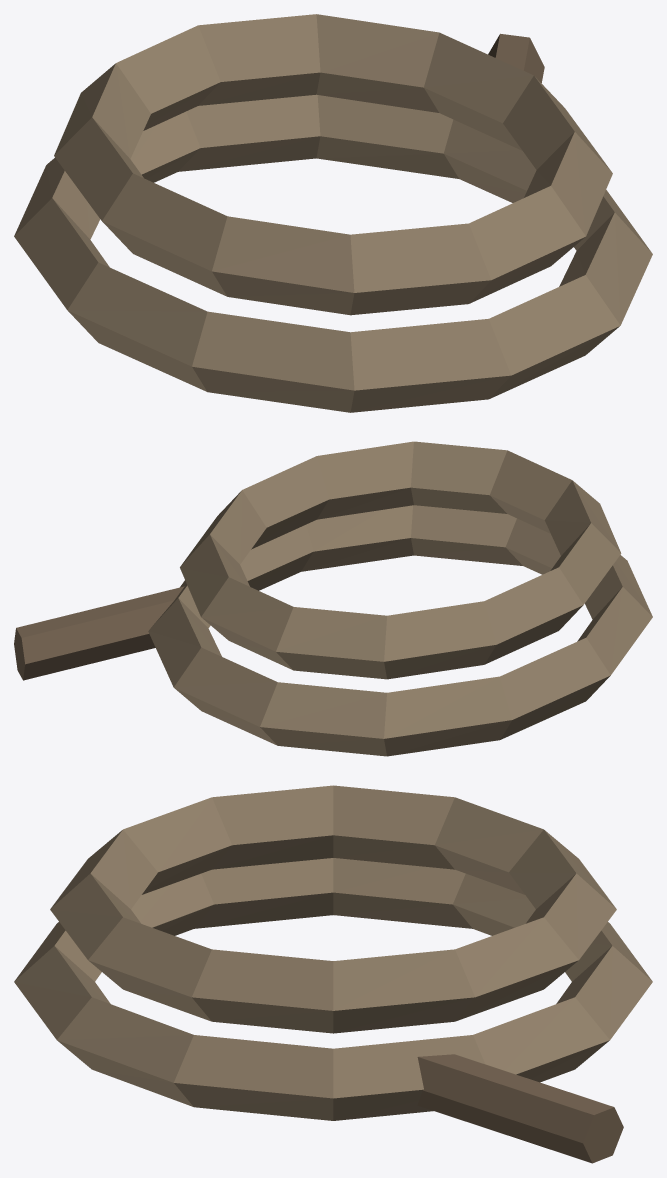
Rendered from rope_coil.glb.
3 views of the same model, one above another, from view 1: azimuth 30°, elevation 25°; view 2: azimuth 150°, elevation 25°; view 3: azimuth 270°, elevation 25° (orthographic). The views are drawn at different scales.
Parts seen in each view (by area): view 1: rope_coil; view 2: rope_coil; view 3: rope_coil.
Boxes of the visible parts, x1,y1,x2,y2 form: rope_coil: (14, 14, 652, 412); rope_coil: (14, 441, 652, 756); rope_coil: (14, 785, 652, 1163).
Size of the model in its own units: 0.96 by 0.24 by 0.96.
